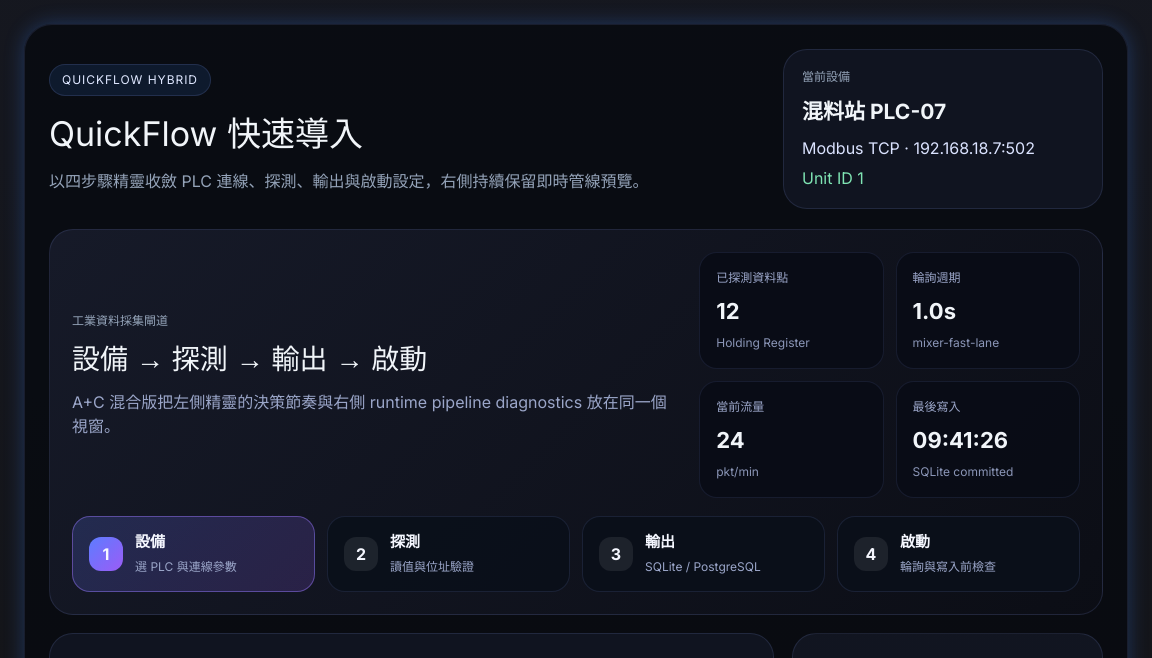
it: QuickFlowPage › switches wizard content when selecting the points step
Click the button "2 探測 讀值與位址驗證".
click(448, 554)  # box [327,516,570,592]
(page scrolled)
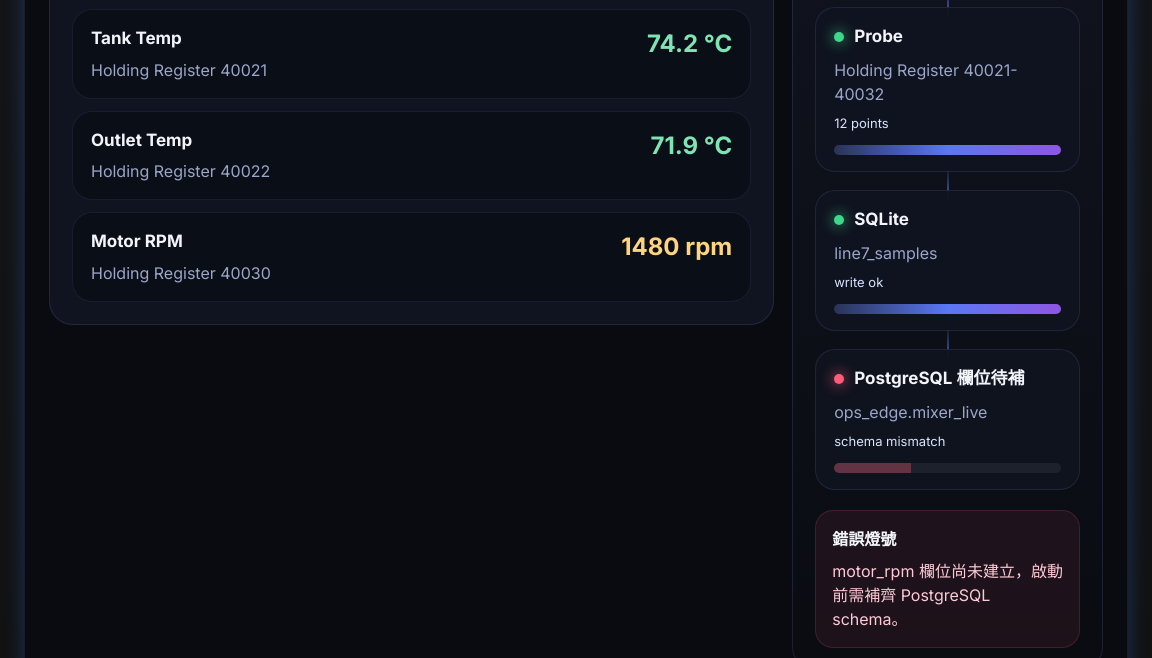
Check: the text "PostgreSQL 欄位待補" is shown, box [834,368,1024,388]
Check: the text "74.2 °C" is shown, box [647,29,732,58]
